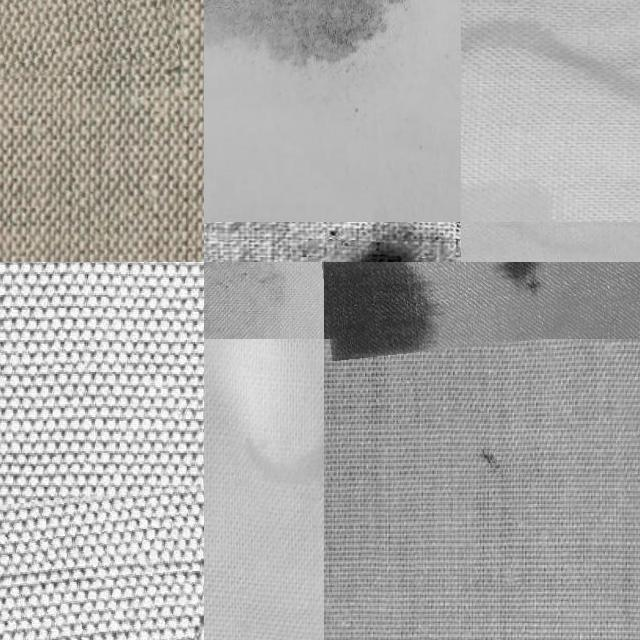Thread_other: (321, 262, 640, 350), (204, 0, 424, 100), (204, 262, 321, 339), (306, 222, 461, 262)
stains: (0, 464, 204, 640)
